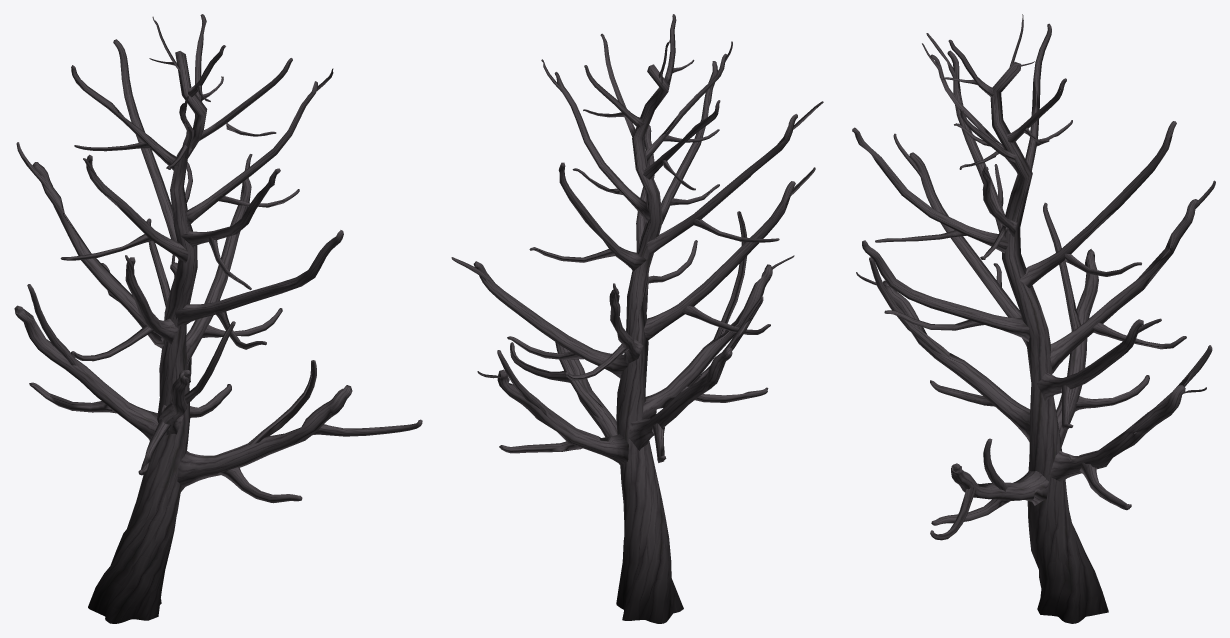
File: nature-deadtree-2.glb
3 views of the same model, side by side, from view 1: azimuth 30°, elevation 25°; view 2: azimuth 150°, elevation 25°; view 3: azimuth 270°, elevation 25° (orthographic). The views are drawn at different scales.
Parts seen in each view (by area): view 1: DeadTree_2; view 2: DeadTree_2; view 3: DeadTree_2.
Part boxes in pixels (left/top/right/bottom): DeadTree_2: left=14, top=14, right=422, bottom=623; DeadTree_2: left=451, top=14, right=823, bottom=623; DeadTree_2: left=852, top=14, right=1215, bottom=623.
Bounding box in the file's own units: 6.73 × 11.49 × 6.38.
1 material, 1 textured.
